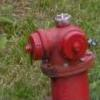Hydrant: (21, 7, 93, 100)
